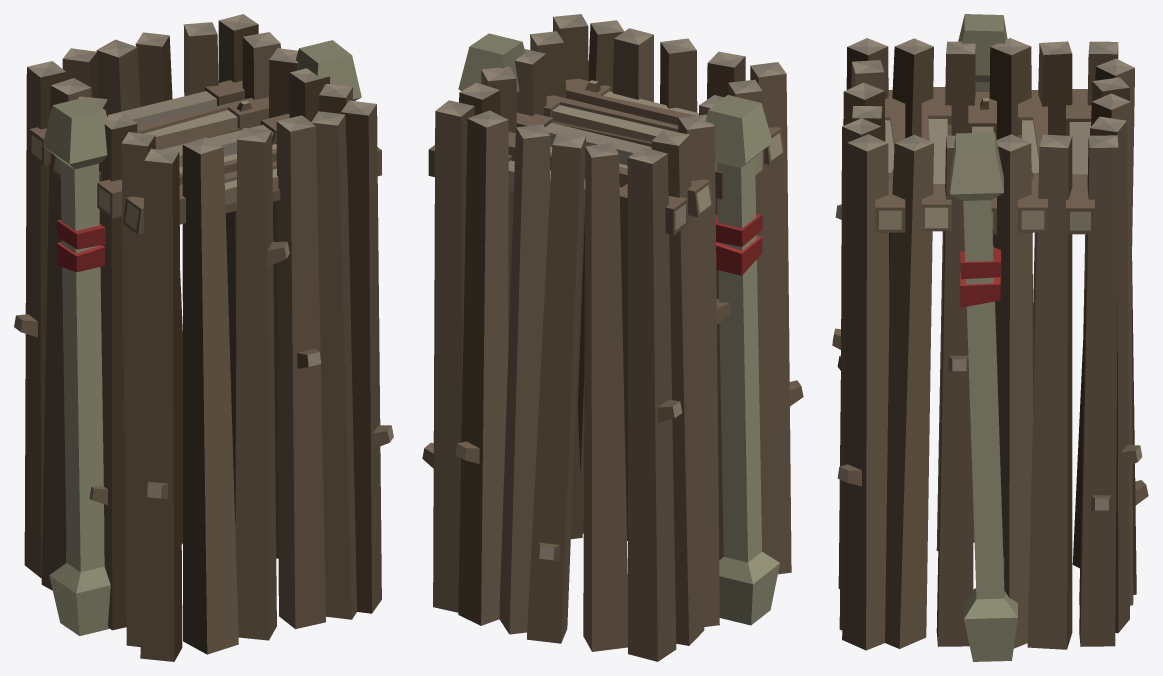
The model's file is SF_Bld_Goblin_Wall_Tower_01.fbx.
3 views of the same model, side by side, from view 1: azimuth 30°, elevation 25°; view 2: azimuth 150°, elevation 25°; view 3: azimuth 270°, elevation 25° (orthographic).
Visible parts, largest first — view 1: SF_Bld_Goblin_Wall_Tower_01; view 2: SF_Bld_Goblin_Wall_Tower_01; view 3: SF_Bld_Goblin_Wall_Tower_01.
Boxes of the visible parts, box(x1,y1,x2,y2) form: SF_Bld_Goblin_Wall_Tower_01: box(14, 14, 393, 661); SF_Bld_Goblin_Wall_Tower_01: box(422, 14, 803, 661); SF_Bld_Goblin_Wall_Tower_01: box(832, 14, 1148, 661).
Bounding box in the file's own units: 7.06 × 11.92 × 6.66.
